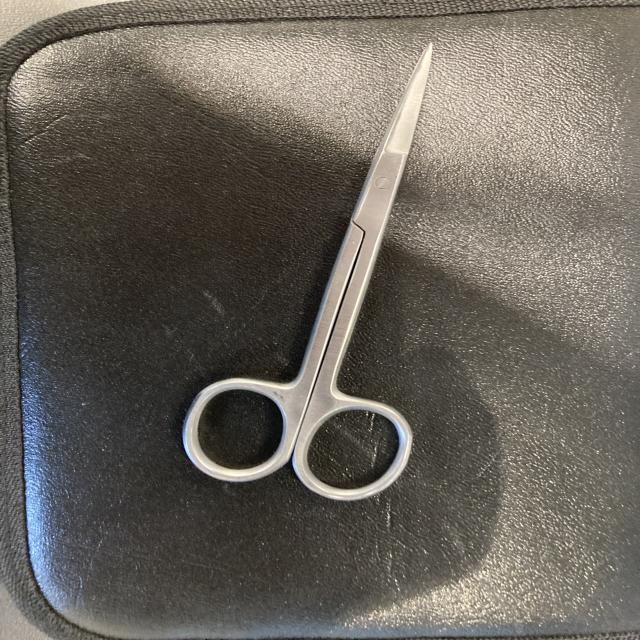scissor: (168, 38, 443, 508)
